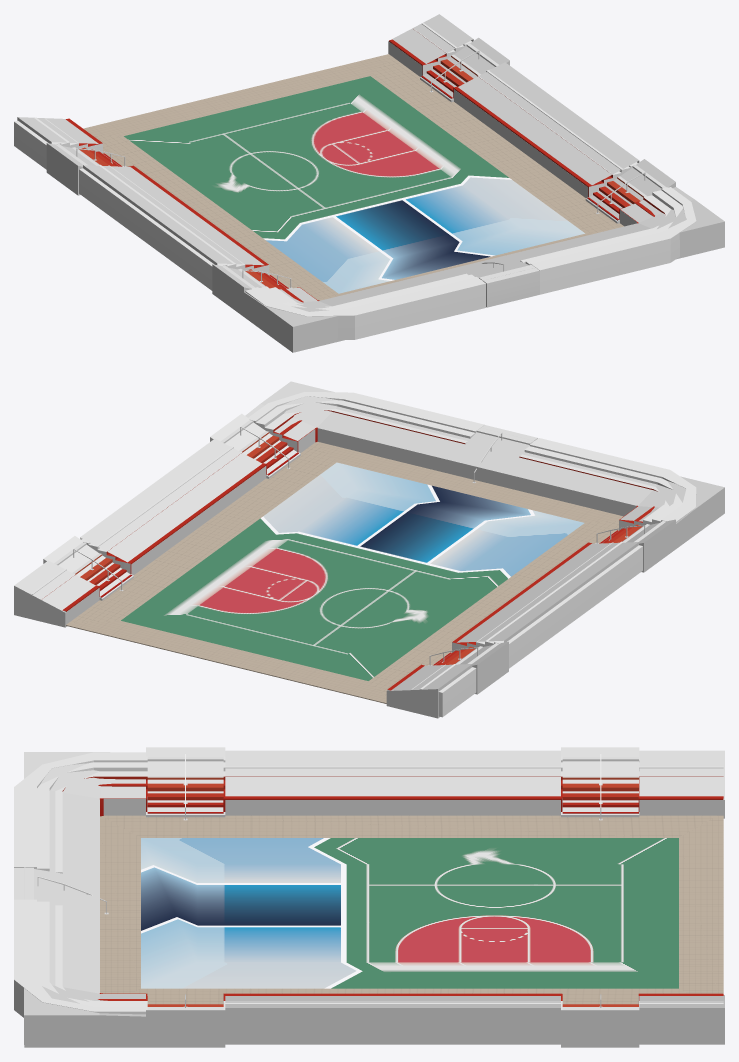
File: BasketArea.fbx
3 views of the same model, one above another, from view 1: azimuth 30°, elevation 25°; view 2: azimuth 150°, elevation 25°; view 3: azimuth 270°, elevation 25° (orthographic). The views are drawn at different scales.
Parts seen in each view (by area): view 1: Basket, KursiPenonton, BasketColider2, BasketColider; view 2: Basket, BasketColider2, KursiPenonton, BasketColider; view 3: Basket, BasketColider2, KursiPenonton, BasketColider.
Part boxes in pixels (<box>): Basket: <box>83,54,623,300</box>; KursiPenonton: <box>14,23,696,339</box>; BasketColider2: <box>17,14,724,352</box>; BasketColider: <box>46,37,675,316</box>; Basket: <box>66,441,623,703</box>; BasketColider2: <box>14,381,724,718</box>; KursiPenonton: <box>31,392,696,717</box>; BasketColider: <box>43,413,675,694</box>; Basket: <box>100,815,723,1004</box>; BasketColider2: <box>24,750,724,1047</box>; KursiPenonton: <box>14,752,723,1017</box>; BasketColider: <box>146,747,639,1047</box>.
Bounding box in the file's own units: 6819 × 478 × 7777.
